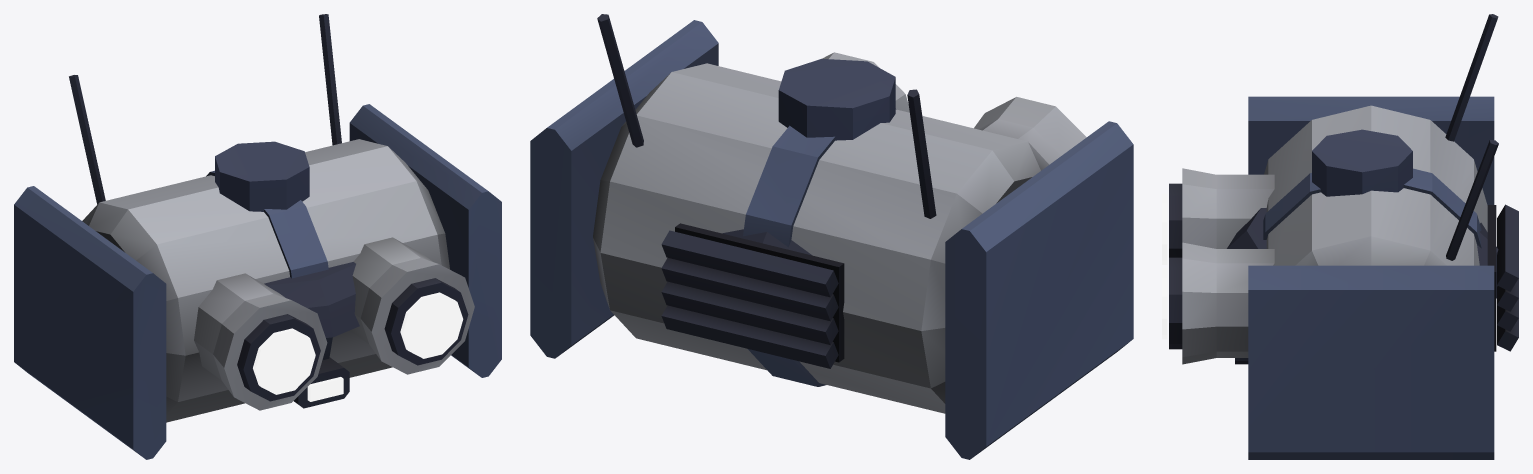
Rendered from sensor-optic.glb.
The picture shows the model from 3 angles, left to right: view 1: azimuth 30°, elevation 25°; view 2: azimuth 150°, elevation 25°; view 3: azimuth 270°, elevation 25°; orthographic projection. The views are drawn at different scales.
Parts seen in each view (by area): view 1: HeadPitch_Mesh, HeadPitch_Glow, Head_Mesh, Body; view 2: HeadPitch_Mesh, Head_Mesh, Body; view 3: HeadPitch_Mesh, Head_Mesh, Body, HeadPitch_Glow.
Part boxes in pixels (<box>): HeadPitch_Mesh: <box>14,14,501,459</box>; HeadPitch_Glow: <box>253,292,463,401</box>; Head_Mesh: <box>215,141,309,211</box>; Body: <box>264,262,359,337</box>; HeadPitch_Mesh: <box>530,14,1133,459</box>; Head_Mesh: <box>778,58,895,140</box>; Body: <box>722,229,812,255</box>; HeadPitch_Mesh: <box>1169,14,1518,459</box>; Head_Mesh: <box>1312,129,1412,196</box>; Body: <box>1227,208,1498,298</box>; HeadPitch_Glow: <box>1162,193,1167,339</box>.
Size of the model in its own units: 1 by 0.7817 by 0.8123.
